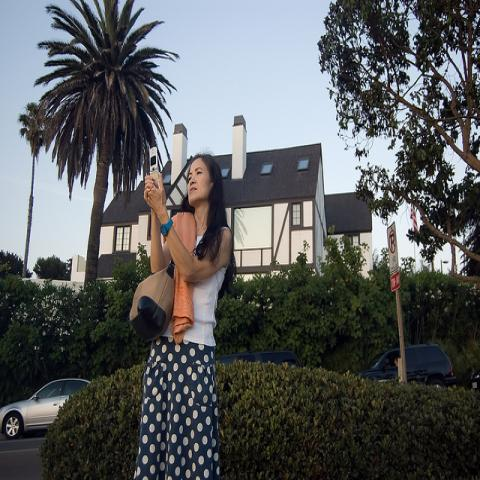car: (1, 378, 91, 440), (360, 347, 454, 381), (218, 352, 302, 367)
